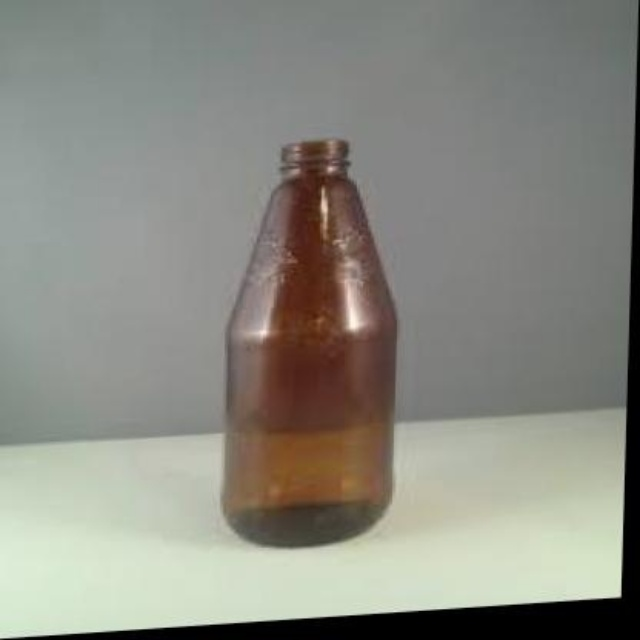trash: (222, 138, 395, 545)
